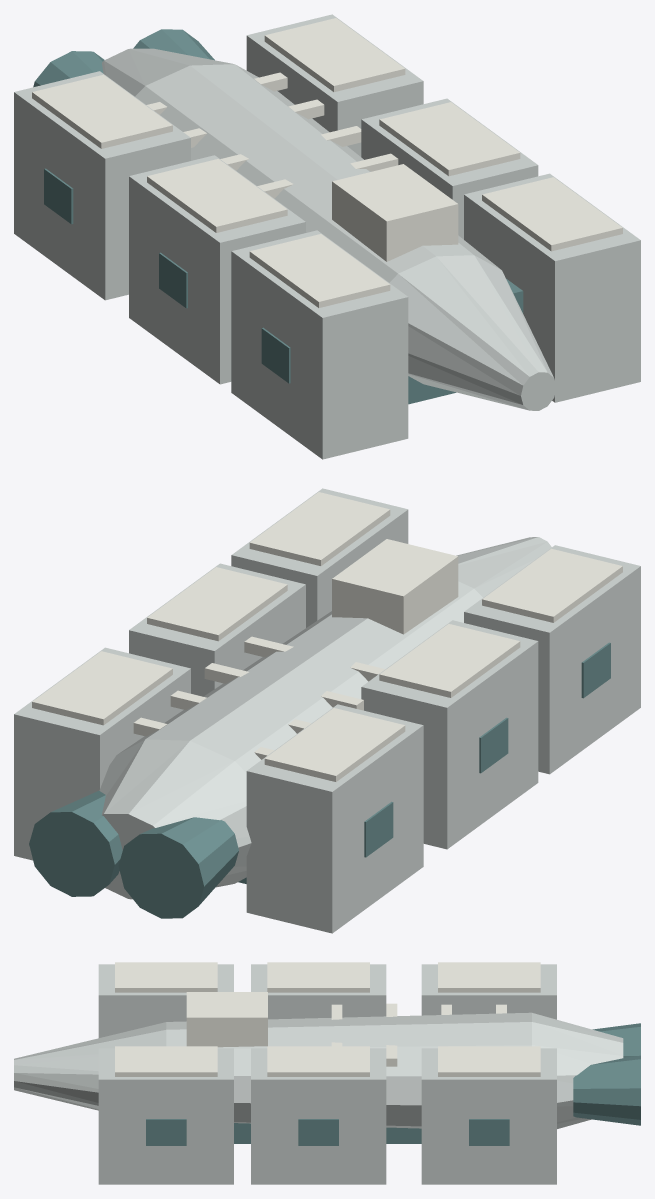
3 renders of one model, top to bottom at view 1: azimuth 30°, elevation 25°; view 2: azimuth 150°, elevation 25°; view 3: azimuth 270°, elevation 25°, orthographic. The views are drawn at different scales.
Bounding box in the file's own units: 4 × 1.95 × 9.07.
